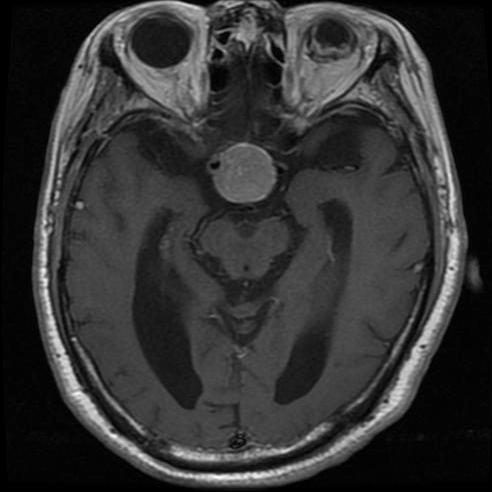Tumour-Pituitary: (207, 142, 279, 207)
